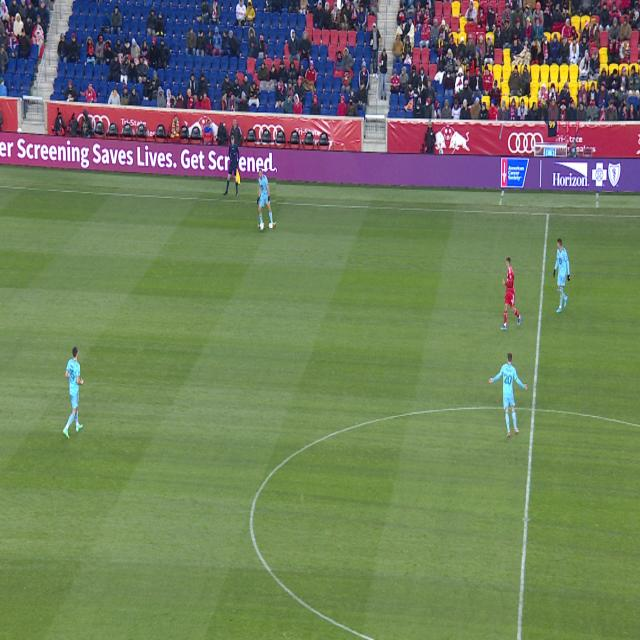football: (260, 224, 264, 231)
player: (488, 353, 527, 437), (63, 347, 84, 439), (500, 256, 521, 330), (553, 239, 570, 312), (257, 169, 276, 228)
